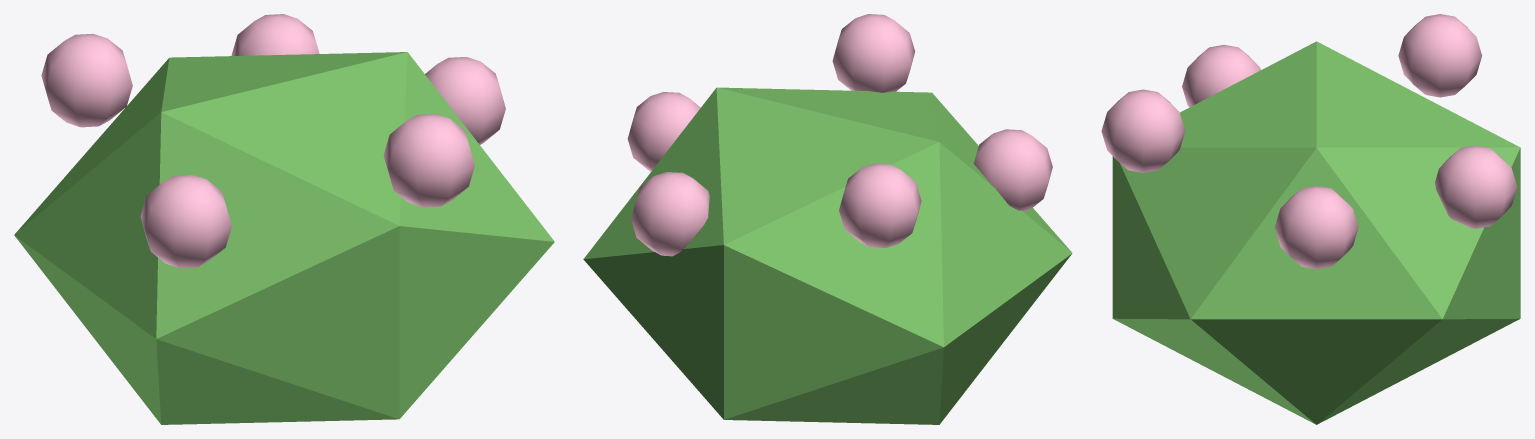
Rendered from flower-bush.glb.
The picture shows the model from 3 angles, left to right: view 1: azimuth 30°, elevation 25°; view 2: azimuth 150°, elevation 25°; view 3: azimuth 270°, elevation 25°; orthographic projection. The views are drawn at different scales.
Parts seen in each view (by area): view 1: gardens flower-bush; view 2: gardens flower-bush; view 3: gardens flower-bush.
Part boxes in pixels (bbox=[...]): gardens flower-bush: bbox=[14, 14, 554, 424]; gardens flower-bush: bbox=[583, 14, 1072, 424]; gardens flower-bush: bbox=[1101, 14, 1520, 424].
Size of the model in its own units: 1.42 by 1.1 by 1.4.
